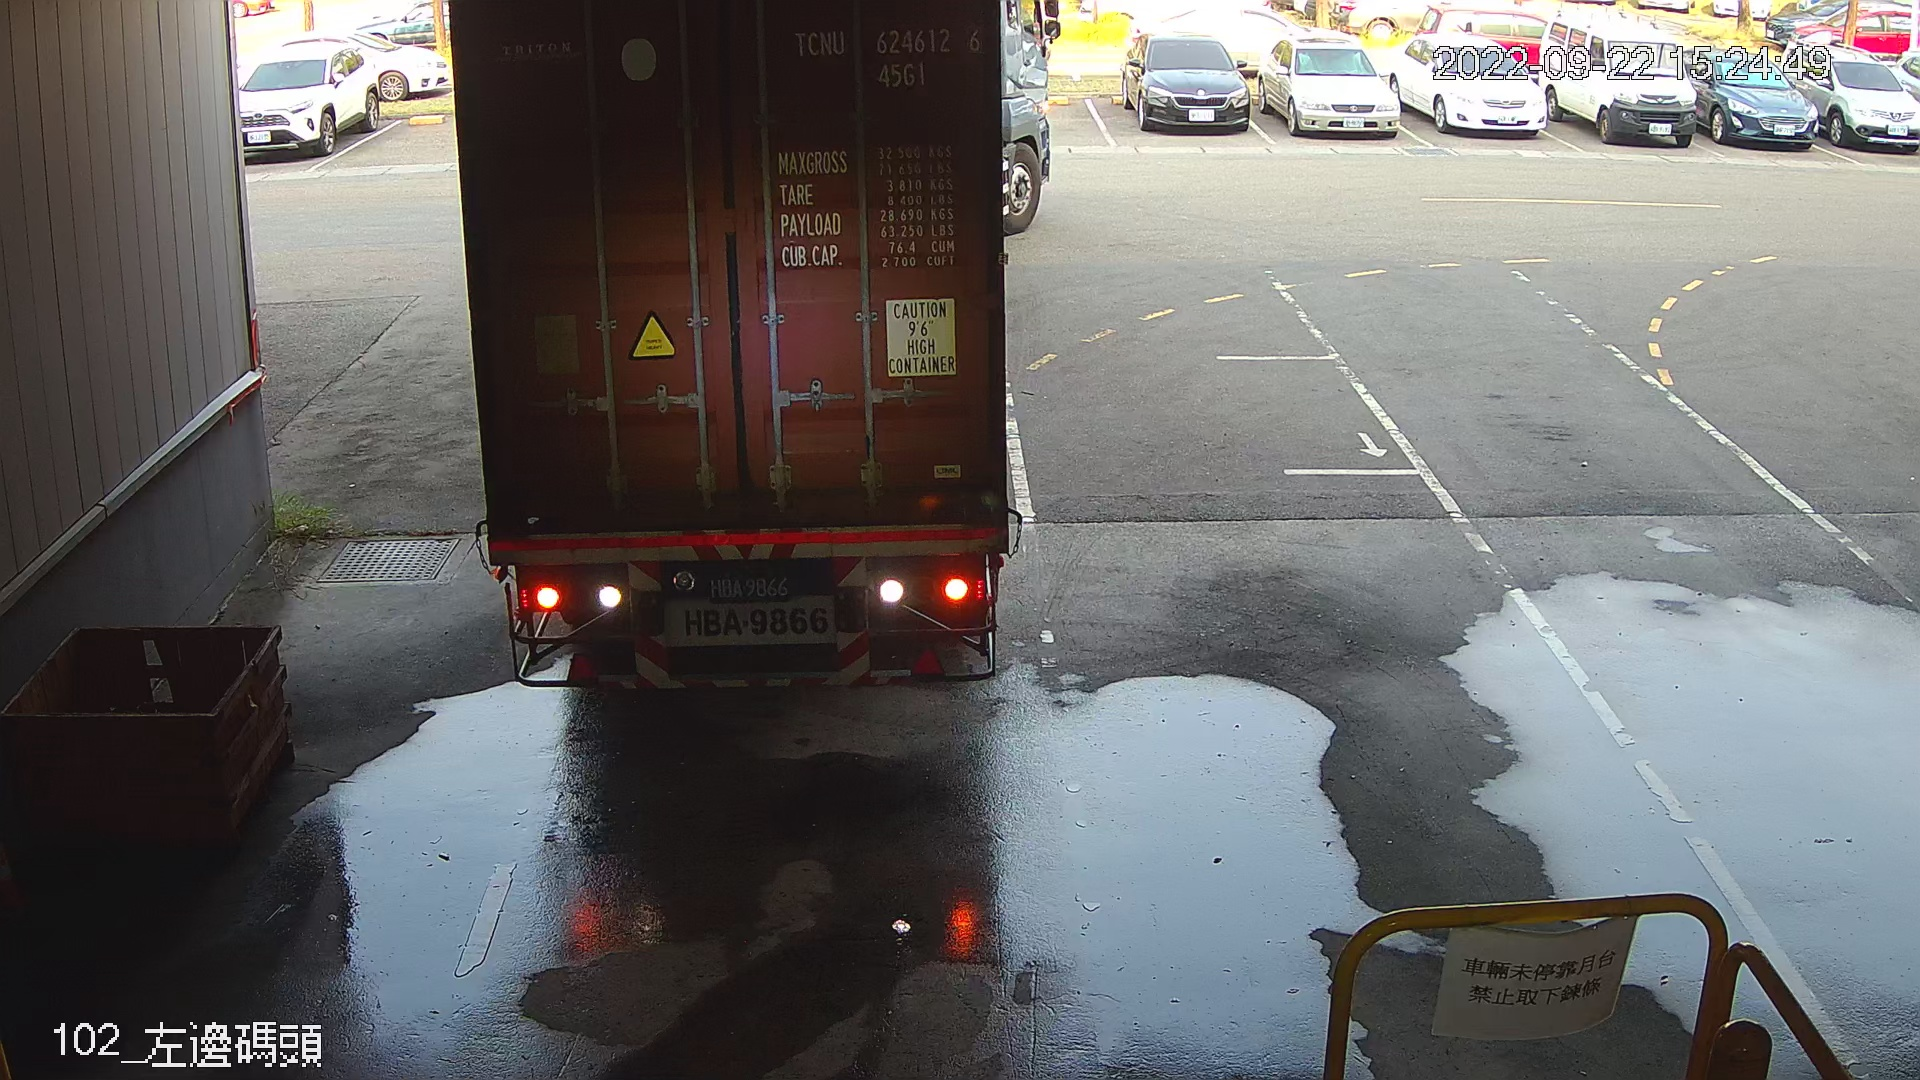container: (787, 22, 992, 94)
